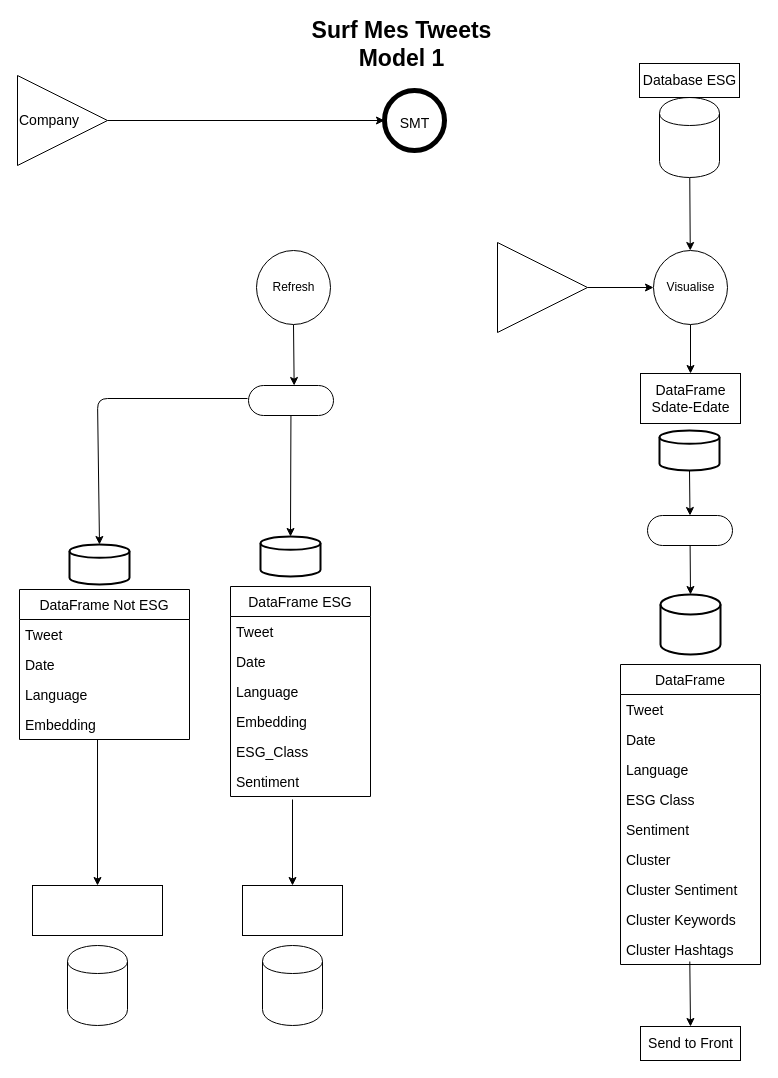
Image size: 778x1078. Some labels were removed from this diagram. Here are the shapes that lost their labels. From the top down, the centre of each, then its label:
the point at 542,287: Start Date End Date
the point at 291,400: Update_DB
the point at 689,530: ESG_Topic
the point at 97,910: Save to Database Not ESG
the point at 292,910: Save to Database ESG
